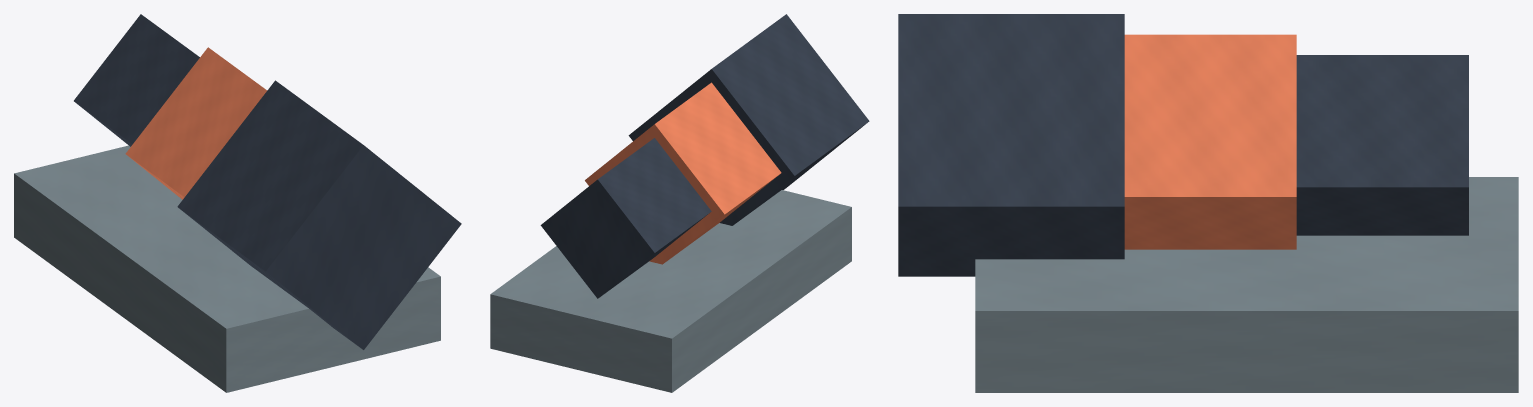
The model's file is atlas100-s024-a05.lod1.glb.
3 renders of one model, left to right at view 1: azimuth 30°, elevation 25°; view 2: azimuth 150°, elevation 25°; view 3: azimuth 270°, elevation 25°, orthographic. The views are drawn at different scales.
Parts seen in each view (by area): view 1: atlas100-s024-a05:part-004, atlas100-s024-a05:part-002, atlas100-s024-a05:part-001, atlas100-s024-a05:part-000; view 2: atlas100-s024-a05:part-004, atlas100-s024-a05:part-002, atlas100-s024-a05:part-000, atlas100-s024-a05:part-001; view 3: atlas100-s024-a05:part-004, atlas100-s024-a05:part-002, atlas100-s024-a05:part-001, atlas100-s024-a05:part-000.
Boxes of the visible parts, box(x1,y1,x2,y2) form: atlas100-s024-a05:part-004: box(14, 145, 440, 392); atlas100-s024-a05:part-002: box(177, 80, 461, 349); atlas100-s024-a05:part-001: box(125, 47, 267, 199); atlas100-s024-a05:part-000: box(74, 14, 199, 146); atlas100-s024-a05:part-004: box(490, 190, 851, 392); atlas100-s024-a05:part-002: box(628, 14, 869, 225); atlas100-s024-a05:part-000: box(540, 138, 711, 298); atlas100-s024-a05:part-001: box(585, 82, 781, 264); atlas100-s024-a05:part-004: box(975, 177, 1518, 392); atlas100-s024-a05:part-002: box(898, 14, 1124, 276); atlas100-s024-a05:part-001: box(1124, 34, 1296, 249); atlas100-s024-a05:part-000: box(1296, 55, 1468, 235).
Bounding box in the file's own units: 0.3822 × 0.415 × 0.748.
Materials: 3 (3 with a texture image).
